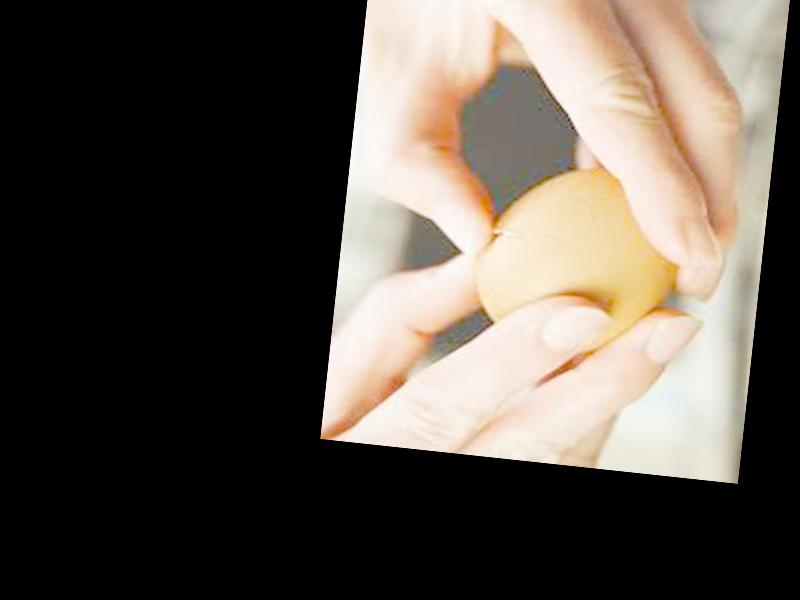Eggs: (466, 157, 690, 363)
